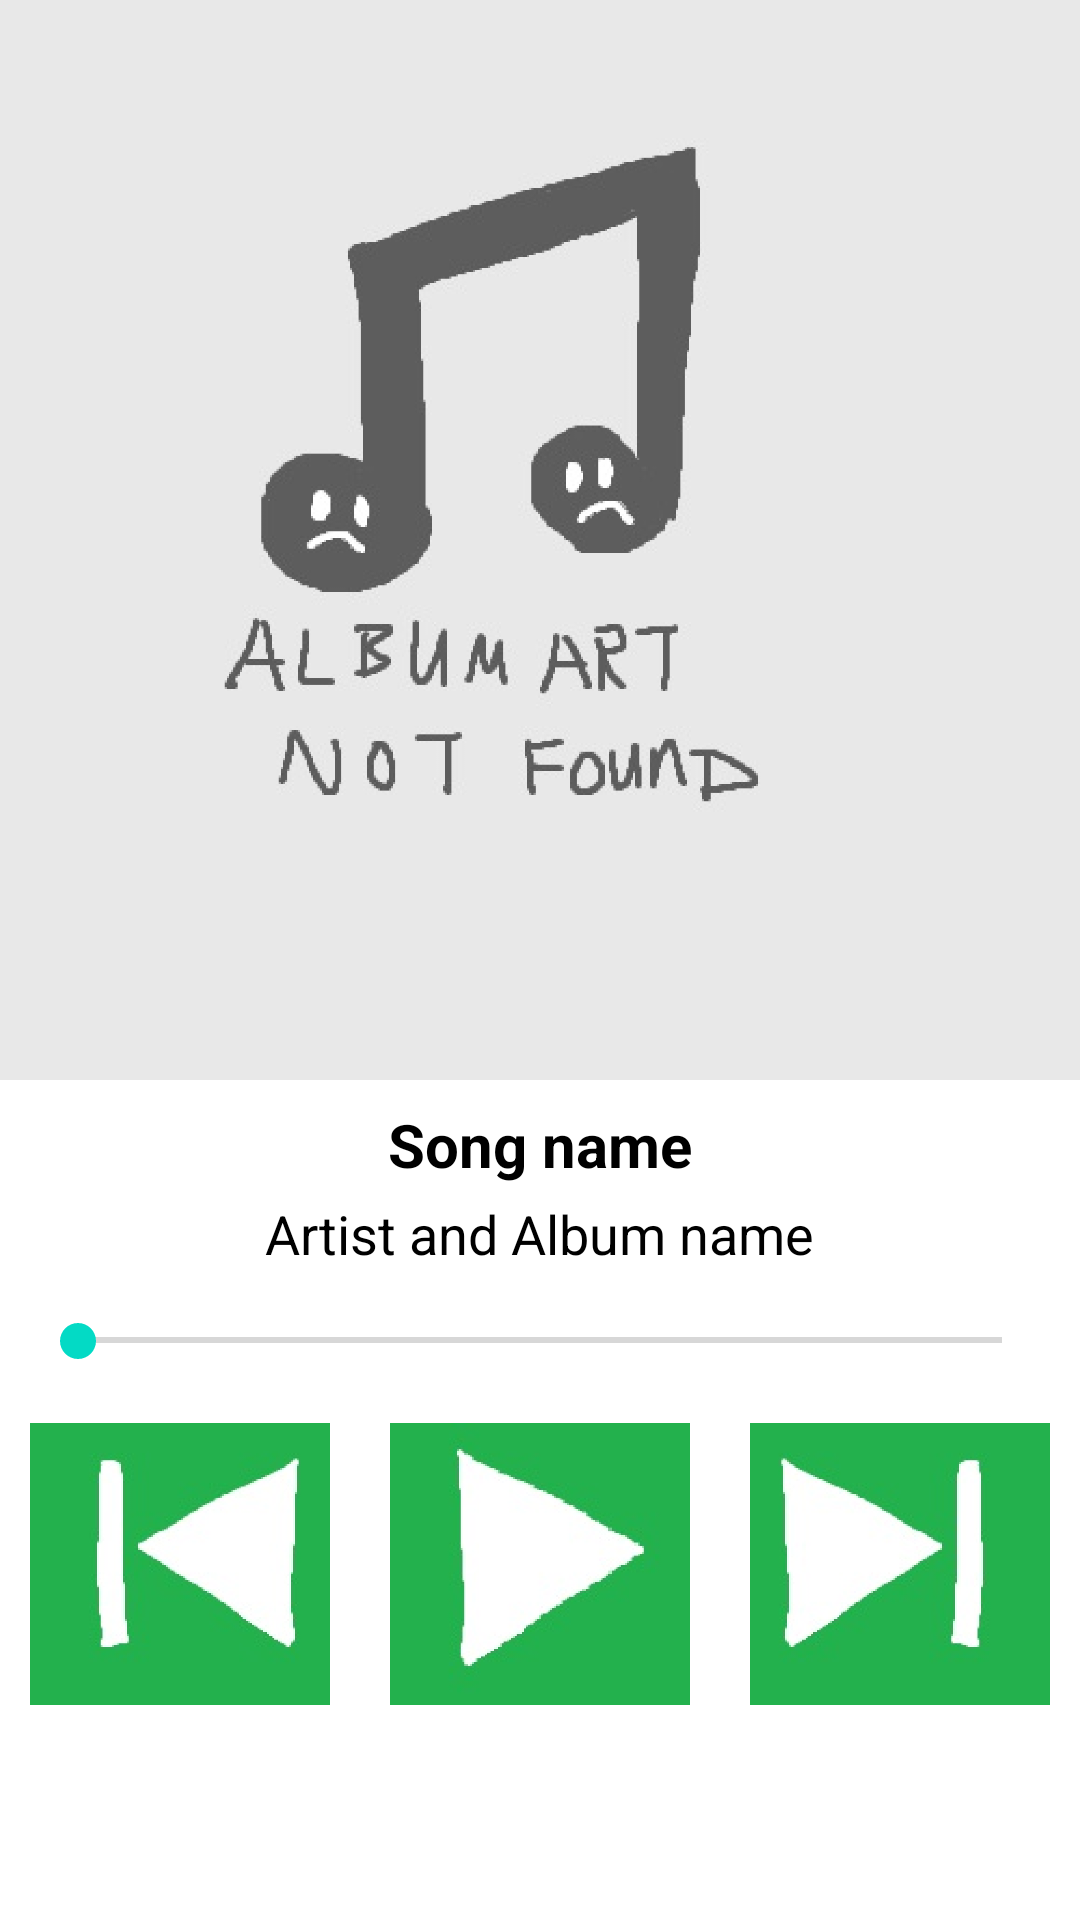

Screen size 1080*1920. Icon name, then its center in pixels as [x,y]:
back: [180,1564]
forward: [900,1564]
play: [540,1564]
